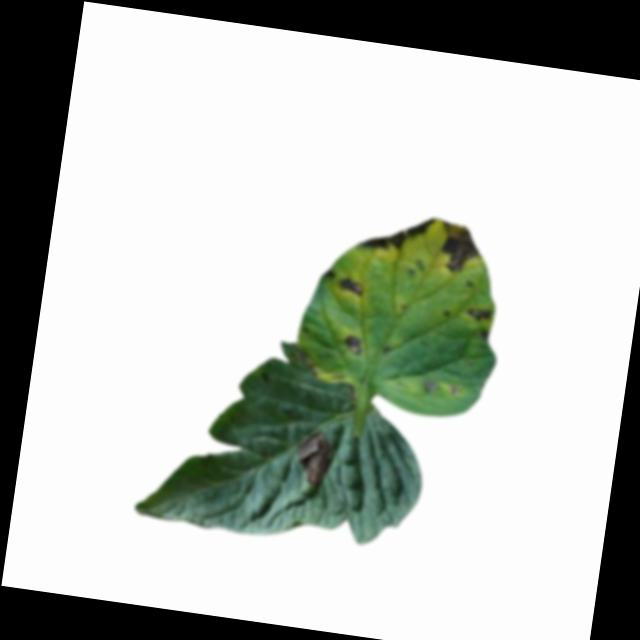Early_blight: (358, 208, 438, 259), (291, 428, 338, 490), (438, 221, 486, 278), (338, 275, 366, 299), (341, 333, 366, 356), (466, 306, 493, 324), (480, 329, 492, 343), (323, 268, 335, 280)
